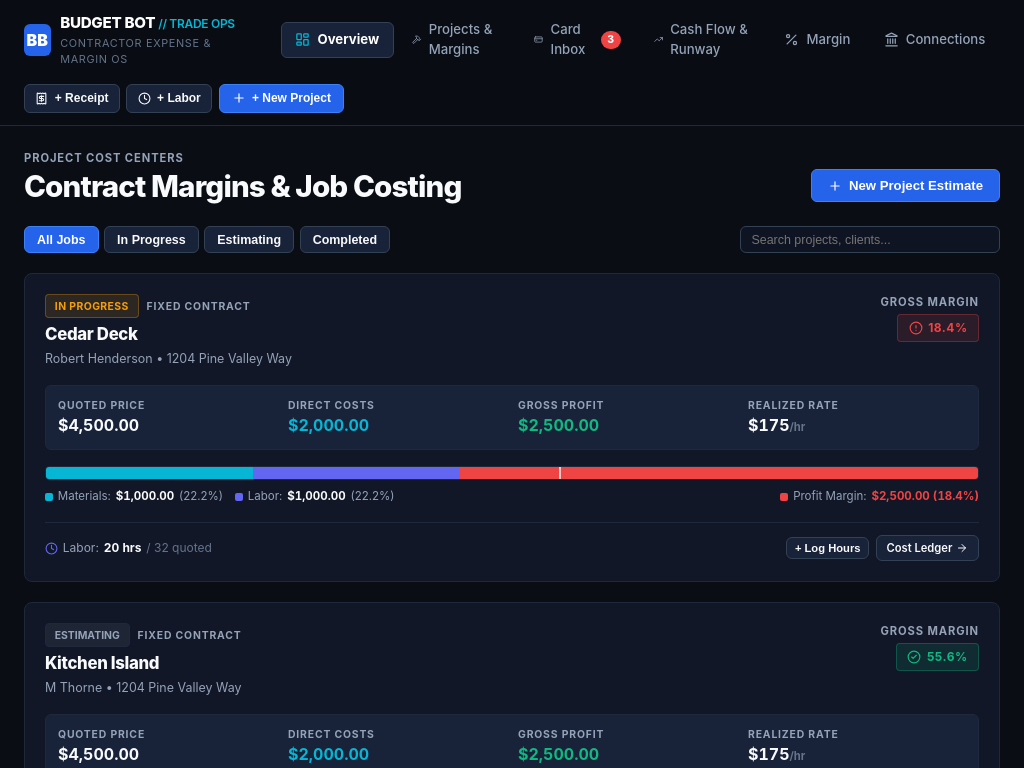
Test: ProjectsView › narrows to one status when a filter is chosen
Click the button "estimating": coordinates (249, 240) [204,226,294,254]
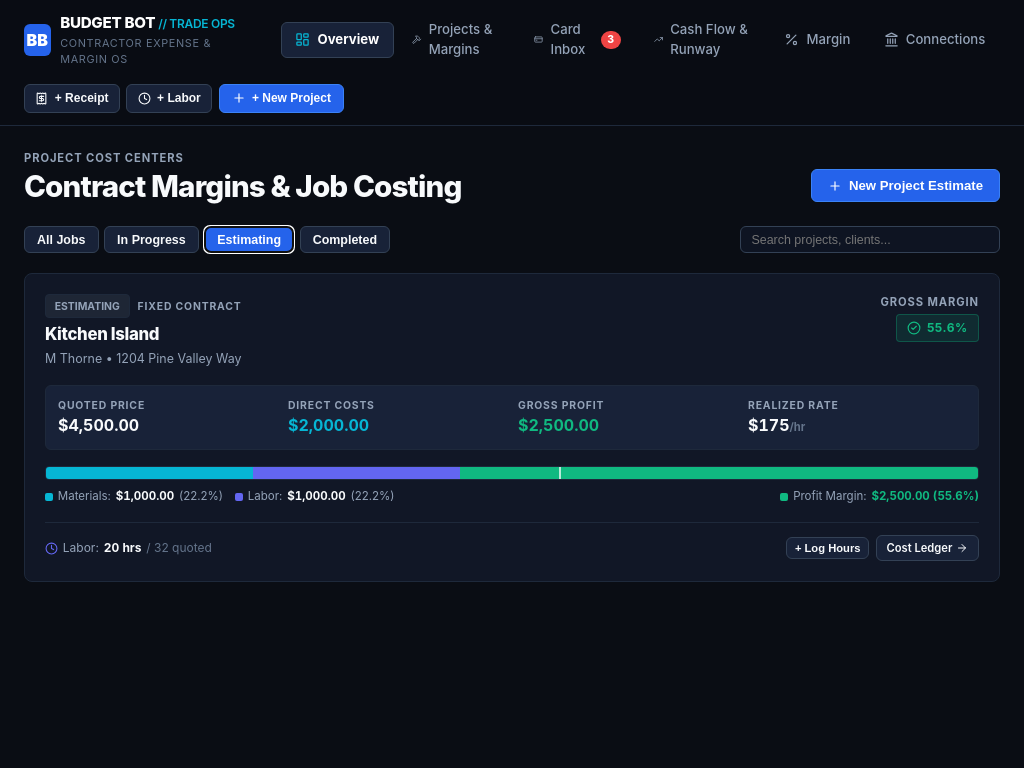
Expected: the link "Kitchen Island" is shown, [45,324,159,344]
Expected: the link "Cedar Deck" is gone
